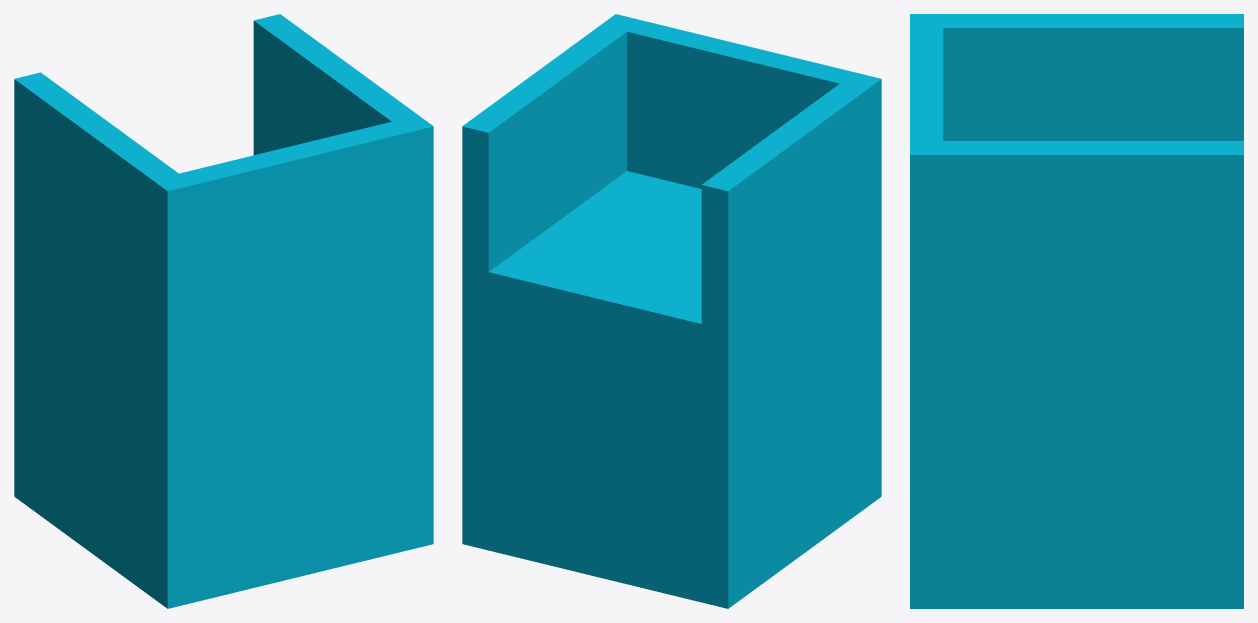
3 renders of one model, left to right at view 1: azimuth 30°, elevation 25°; view 2: azimuth 150°, elevation 25°; view 3: azimuth 270°, elevation 25°, orthographic. The views are drawn at different scales.
Parts seen in each view (by area): view 1: kado; view 2: kado; view 3: kado.
Part boxes in pixels (box(x1,y1,x2,y2)): kado: box(14, 14, 433, 608); kado: box(462, 14, 881, 608); kado: box(910, 14, 1243, 608).
Size of the model in its own units: 2000 by 3000 by 2000.
